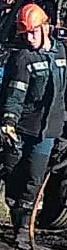gloves: (0, 120, 20, 148)
helmet: (16, 3, 48, 34)
vest: (1, 37, 66, 140)
